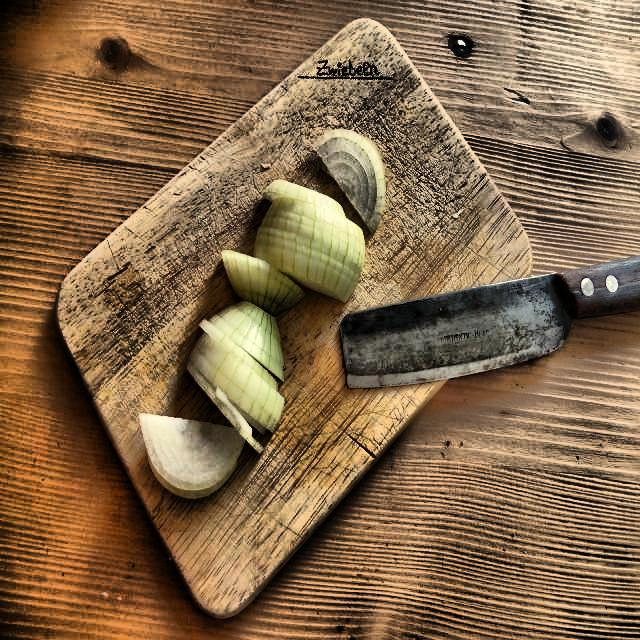knife: (337, 255, 640, 392)
